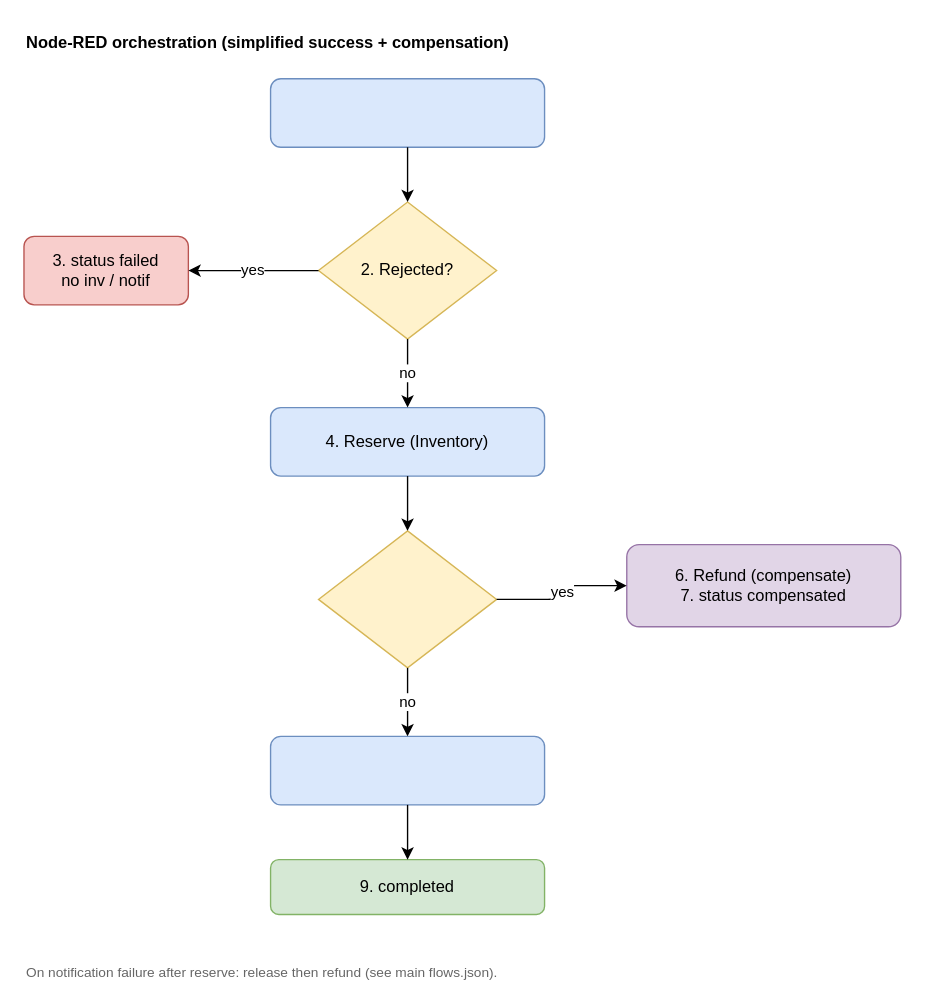
Image size: 925x1006. Some labels were removed from this diagram. Each missing label, with the centre of its shape:
"1. Authorize (Payment)" goes at point 407,112.
"5. Unavailable?" goes at point 407,599.
"8. Send (Notification)" goes at point 407,770.
